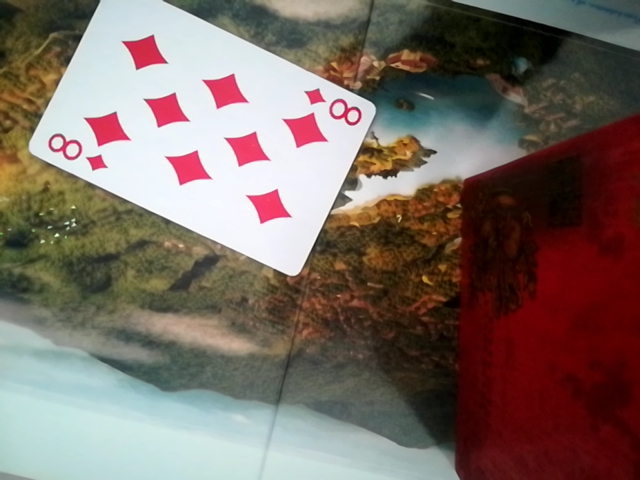fk 8: (29, 5, 374, 277)
